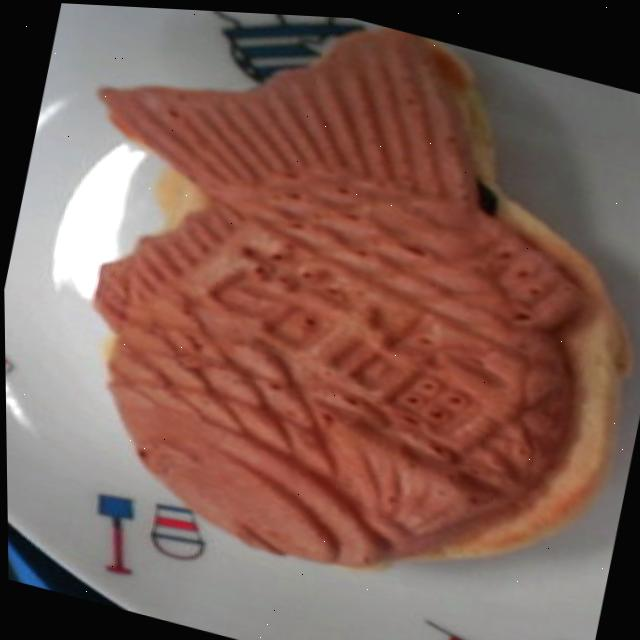熟制海鲜: (28, 1, 621, 640)
